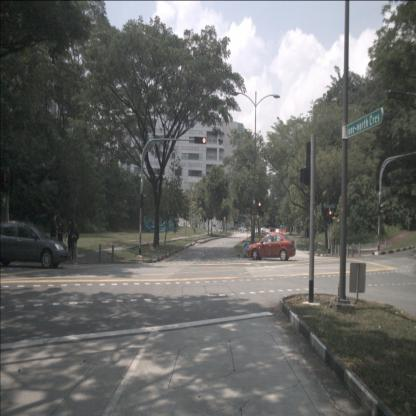barrier: (282, 228, 286, 233), (275, 229, 279, 233)
